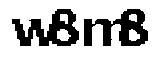8: (120, 6, 150, 51), (51, 5, 80, 48)
m: (82, 16, 129, 51)
w: (9, 17, 52, 49)
